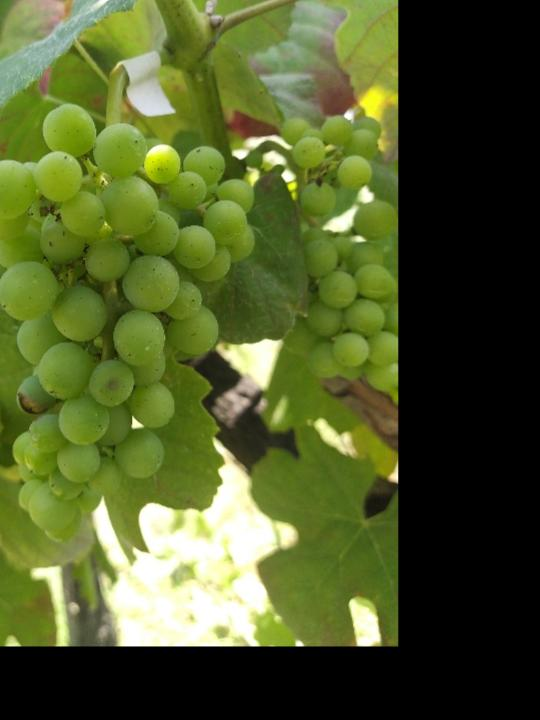grape: (0, 99, 258, 546)
